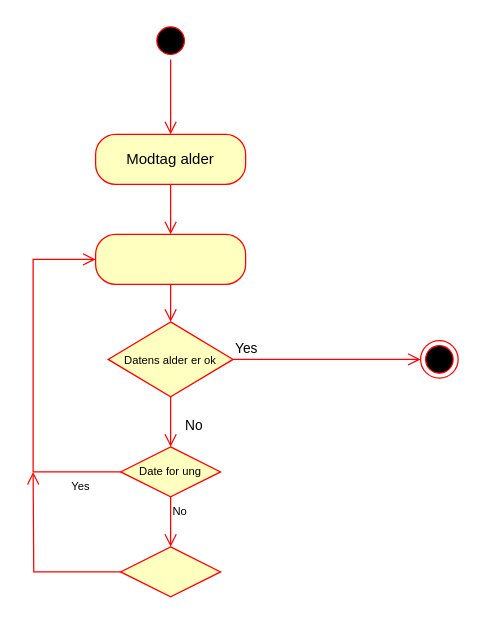
Some shapes in this 480 by 619 pixel diagram are drawn without their labels. The shapes that lost their labels are listed below. From the top down, each one's box as (x1, y1, x2, y2) in pixels, then its label:
(94, 233, 246, 284): Modtag date alder
(119, 546, 221, 597): Date for gammel
